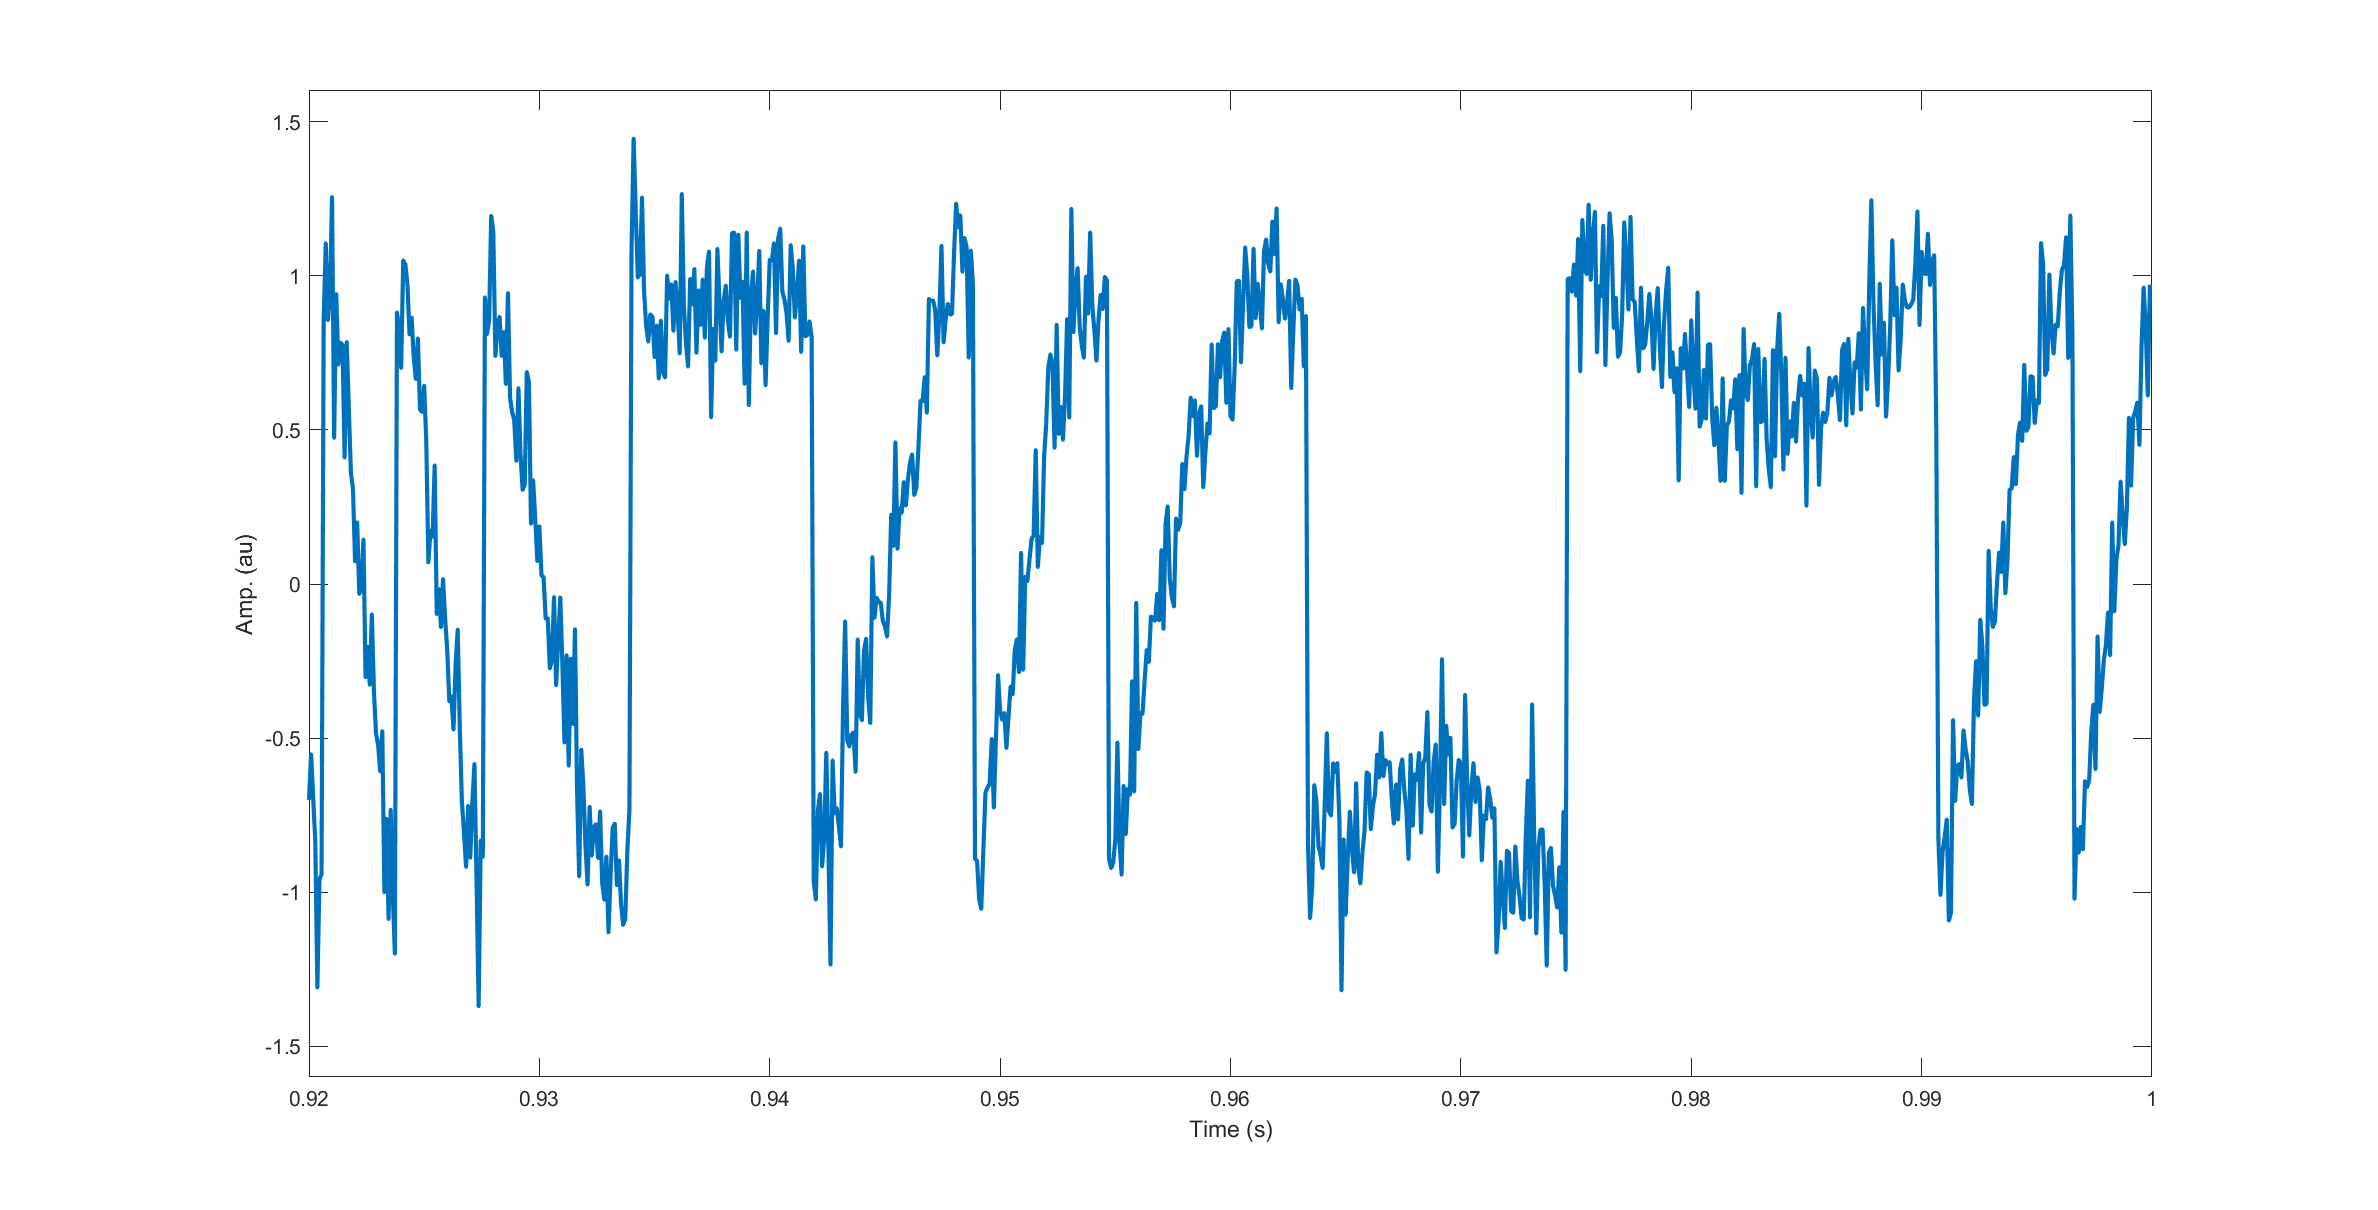negative_fringe: (468, 204, 611, 1019), (380, 244, 463, 960), (313, 174, 373, 999)
positive_fringe: (1128, 201, 1321, 929), (821, 191, 981, 965), (1957, 196, 2086, 914), (992, 198, 1117, 877)
